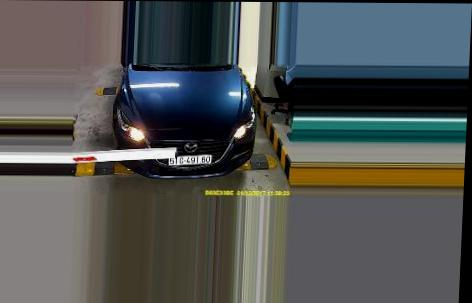License_Plate: (167, 152, 213, 170)
